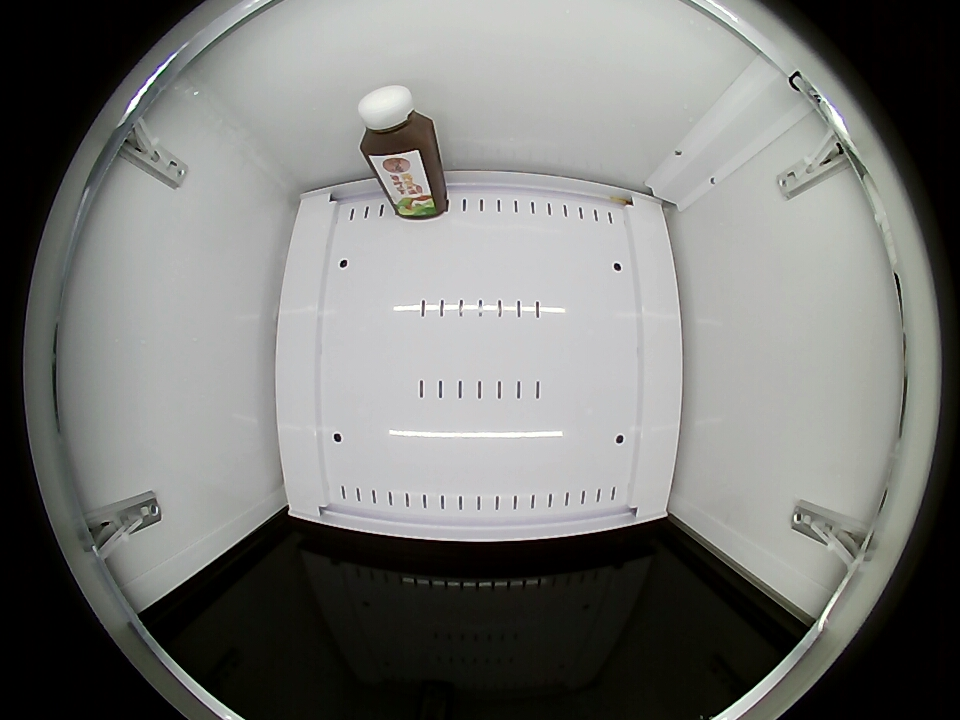youyanggudong: (358, 84, 436, 162)
